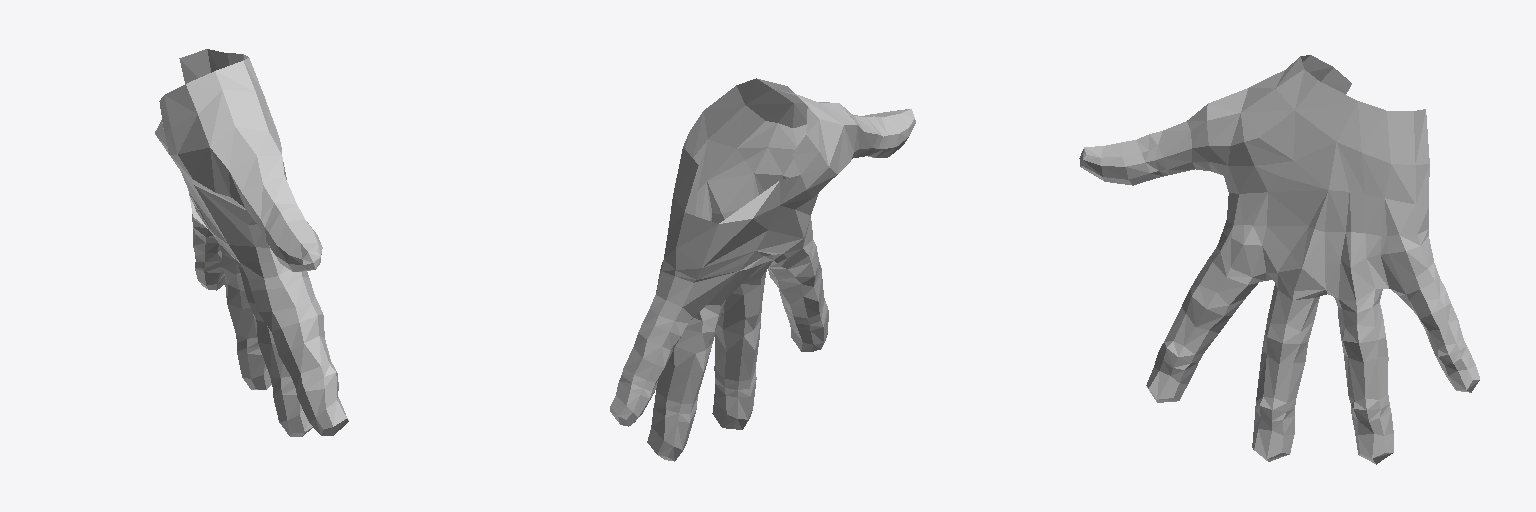
The model's file is righthand.obj.
3 renders of one model, left to right at view 1: azimuth 30°, elevation 25°; view 2: azimuth 150°, elevation 25°; view 3: azimuth 270°, elevation 25°, orthographic.
Visible parts, largest first — view 1: Patrick.000_Patrick.000; view 2: Patrick.000_Patrick.000; view 3: Patrick.000_Patrick.000.
Boxes of the visible parts, <box> form: Patrick.000_Patrick.000: <box>155,49,348,436</box>; Patrick.000_Patrick.000: <box>610,78,915,461</box>; Patrick.000_Patrick.000: <box>1079,55,1479,464</box>.
Bounding box in the file's own units: 0.0811 × 0.2076 × 0.2021.